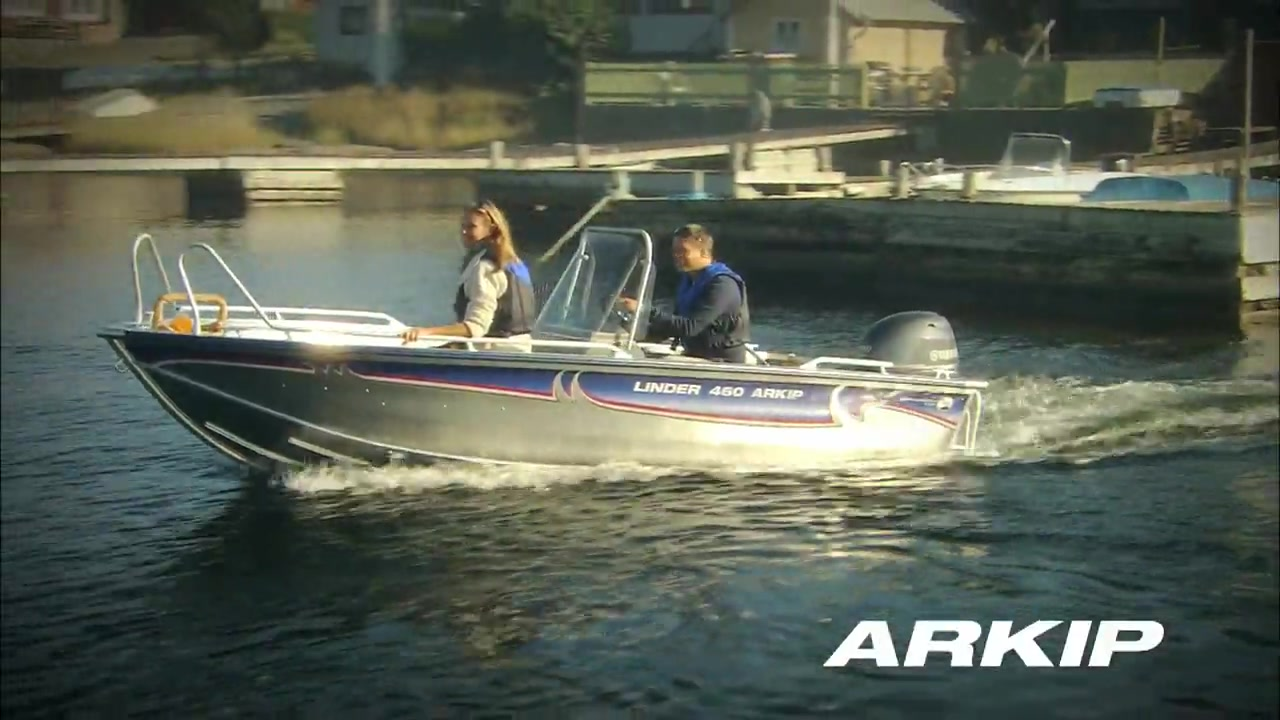boat: (94, 225, 987, 476)
